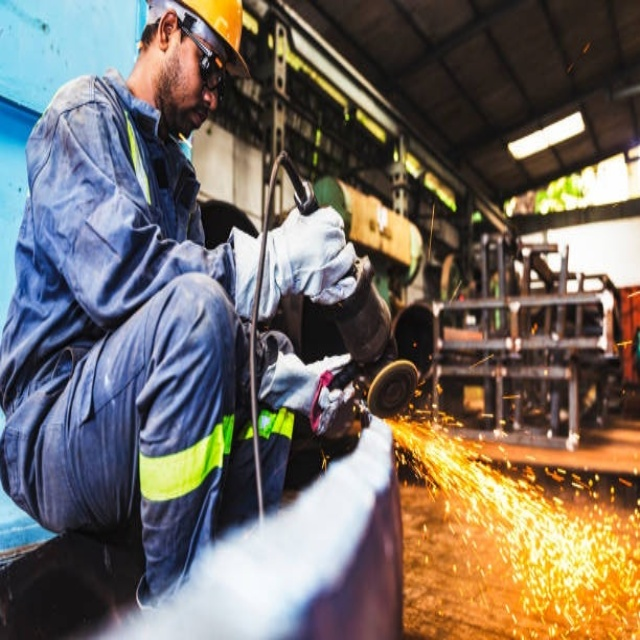Gafas: (176, 20, 226, 94)
Guantes: (222, 195, 366, 328), (254, 339, 360, 436)
Sin_mascara: (184, 93, 214, 138)
